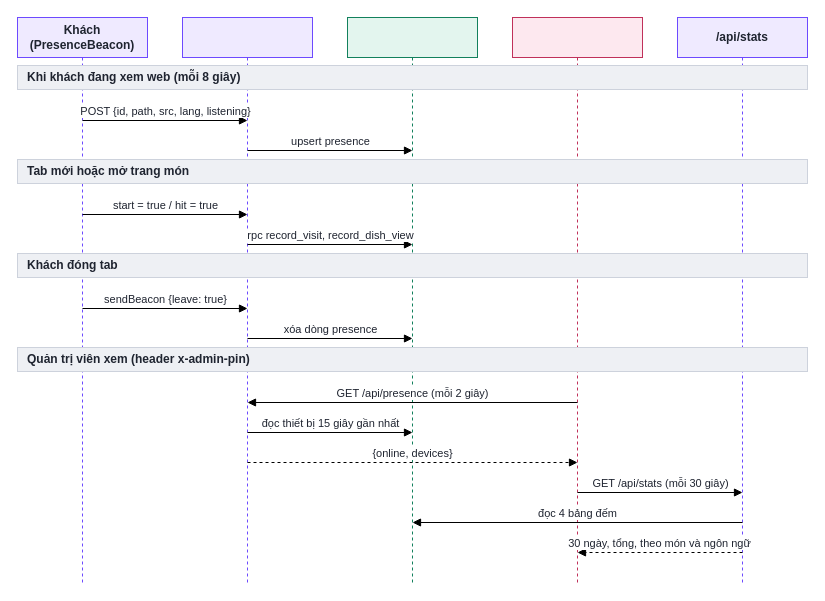
This 825x601 diagram has some shape labels left out. Here are the shapes that lost their labels. From the top down, the box of each, then its label:
(182, 16, 312, 584): /api/presence
(346, 16, 478, 584): Supabase
(512, 16, 642, 584): Quản trị viên (trang admin)
